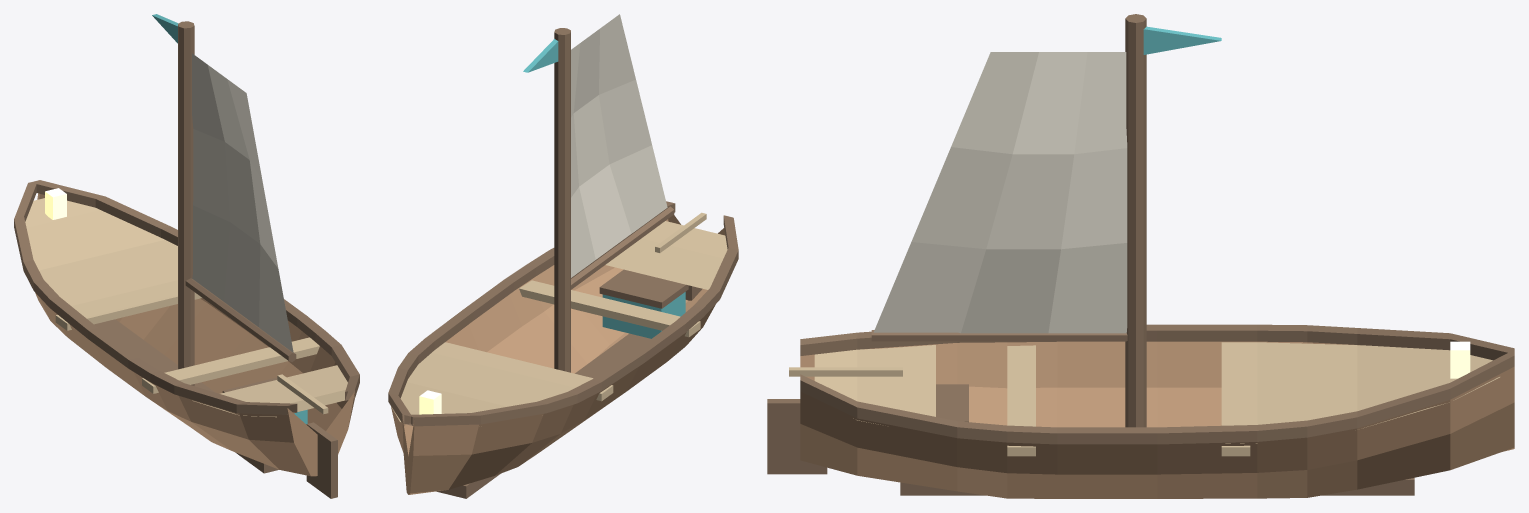
Rendered from 67-Vehiculos_barquita_aurora.glb.
3 renders of one model, left to right at view 1: azimuth 30°, elevation 25°; view 2: azimuth 150°, elevation 25°; view 3: azimuth 270°, elevation 25°, orthographic. The views are drawn at different scales.
Parts seen in each view (by area): view 1: SM_Barquita_M_Barquita_MaderaOscura, SM_Barquita_M_Barquita_MaderaClara, SM_Barquita_M_Barquita_Lino, SM_Barquita_M_Barquita_Casco, SM_Barquita_M_Barquita_Farol, SM_Barquita_M_Barquita_Aurora; view 2: SM_Barquita_M_Barquita_MaderaOscura, SM_Barquita_M_Barquita_Casco, SM_Barquita_M_Barquita_Lino, SM_Barquita_M_Barquita_MaderaClara, SM_Barquita_M_Barquita_Aurora, SM_Barquita_M_Barquita_Farol; view 3: SM_Barquita_M_Barquita_Casco, SM_Barquita_M_Barquita_Lino, SM_Barquita_M_Barquita_MaderaOscura, SM_Barquita_M_Barquita_MaderaClara, SM_Barquita_M_Barquita_Aurora.
Part boxes in pixels (bbox=[...]): SM_Barquita_M_Barquita_MaderaOscura: bbox=[14, 21, 359, 498]; SM_Barquita_M_Barquita_MaderaClara: bbox=[25, 198, 347, 417]; SM_Barquita_M_Barquita_Lino: bbox=[192, 53, 293, 352]; SM_Barquita_M_Barquita_Casco: bbox=[35, 193, 354, 476]; SM_Barquita_M_Barquita_Farol: bbox=[45, 188, 66, 219]; SM_Barquita_M_Barquita_Aurora: bbox=[152, 14, 307, 424]; SM_Barquita_M_Barquita_MaderaOscura: bbox=[388, 28, 738, 498]; SM_Barquita_M_Barquita_Casco: bbox=[391, 215, 725, 494]; SM_Barquita_M_Barquita_Lino: bbox=[571, 14, 667, 277]; SM_Barquita_M_Barquita_MaderaClara: bbox=[391, 212, 727, 421]; SM_Barquita_M_Barquita_Aurora: bbox=[523, 39, 685, 338]; SM_Barquita_M_Barquita_Farol: bbox=[419, 390, 441, 414]; SM_Barquita_M_Barquita_Casco: bbox=[800, 341, 1514, 498]; SM_Barquita_M_Barquita_Lino: bbox=[873, 52, 1127, 333]; SM_Barquita_M_Barquita_MaderaOscura: bbox=[767, 14, 1514, 495]; SM_Barquita_M_Barquita_MaderaClara: bbox=[789, 342, 1499, 456]; SM_Barquita_M_Barquita_Aurora: bbox=[1143, 26, 1221, 54].
Size of the model in its own units: 1.8 by 3.61 by 5.23.
